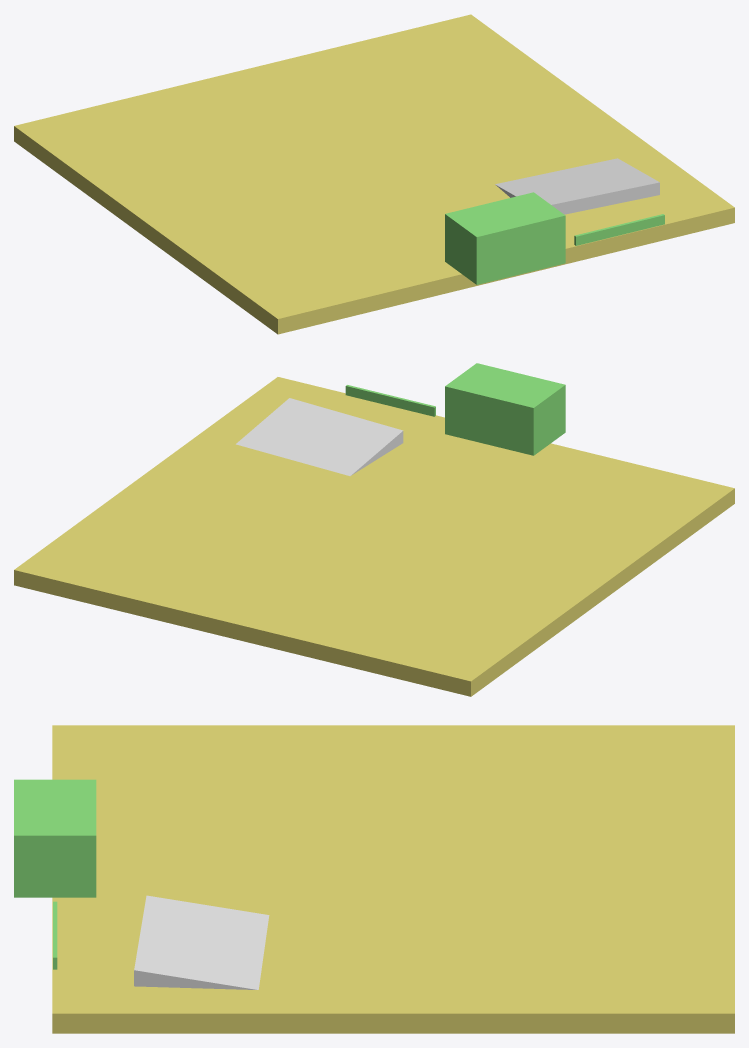
File: prac_stage.fbx
3 views of the same model, one above another, from view 1: azimuth 30°, elevation 25°; view 2: azimuth 150°, elevation 25°; view 3: azimuth 270°, elevation 25° (orthographic). The views are drawn at different scales.
Parts seen in each view (by area): view 1: 立方体, 立方体.001, 立方体.002, 立方体.003; view 2: 立方体, 立方体.001, 立方体.002, 立方体.003; view 3: 立方体, 立方体.002, 立方体.001.
Boxes of the visible parts, box(x1,y1,x2,y2) form: 立方体: box(14, 14, 734, 334); 立方体.001: box(445, 192, 565, 284); 立方体.002: box(495, 158, 659, 214); 立方体.003: box(574, 214, 664, 245); 立方体: box(14, 377, 734, 696); 立方体.001: box(445, 363, 565, 455); 立方体.002: box(236, 398, 403, 475); 立方体.003: box(345, 385, 435, 416); 立方体: box(52, 725, 734, 1033); 立方体.002: box(134, 895, 269, 989); 立方体.001: box(14, 779, 96, 897).
Size of the model in its own units: 1029 by 136 by 1087.
